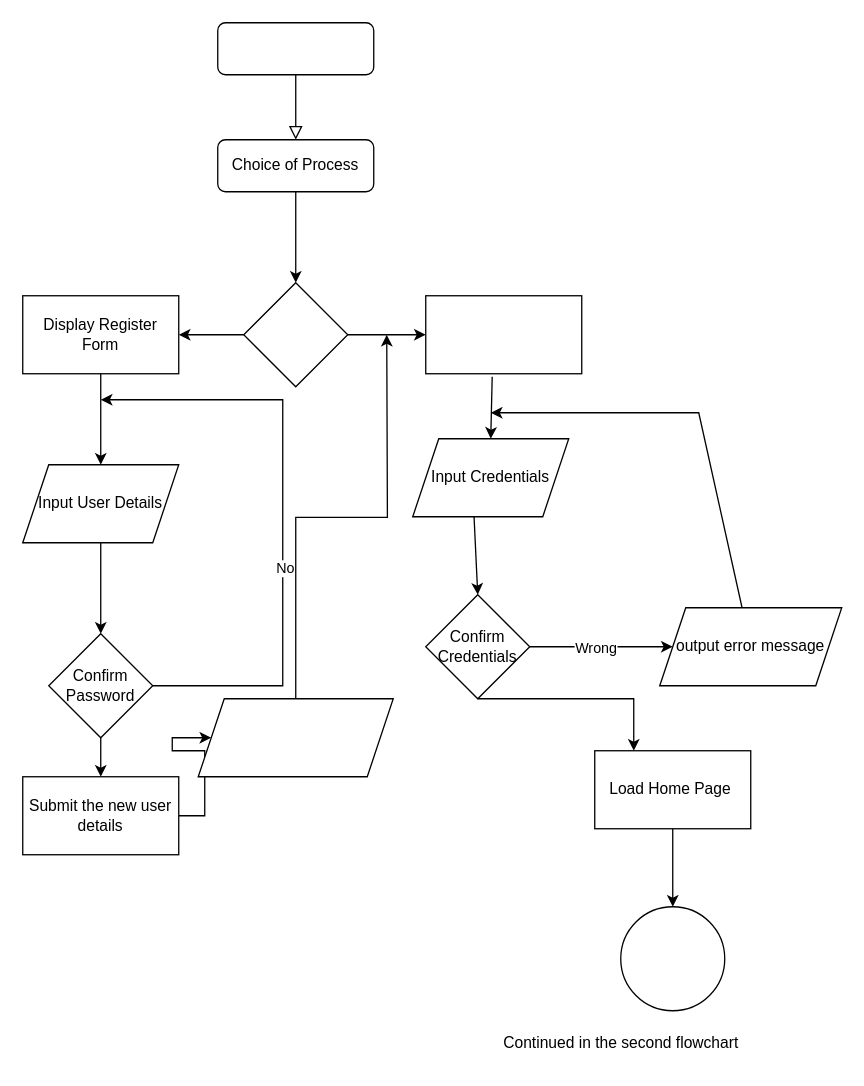
Image size: 864x1086. Some labels were removed from this diagram. The shapes that lost their labels are listed below. From the top down, each one's centre as x and y in pixels, then its label:
pixel 295 48: Start
pixel 295 334: choice
pixel 503 334: Display Login form
pixel 295 737: Output Succeesfull registration message
